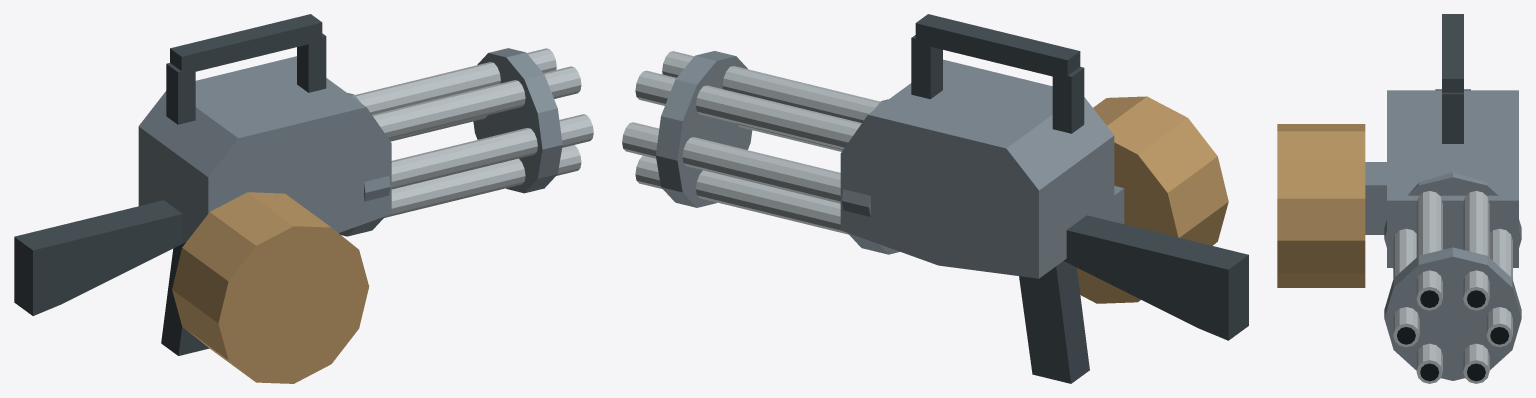
Rendered from w08-furnace-organ.glb.
3 renders of one model, left to right at view 1: azimuth 30°, elevation 25°; view 2: azimuth 150°, elevation 25°; view 3: azimuth 270°, elevation 25°, orthographic. The views are drawn at different scales.
Visible parts, largest first — view 1: w08-furnace-organ__receiver, w08-furnace-organ__feed_drum, w08-furnace-organ__stock, w08-furnace-organ__rotor_front_0, w08-furnace-organ__tube_0_3, w08-furnace-organ__tube_0_2, w08-furnace-organ__carry_handle_top, w08-furnace-organ__tube_0_4, w08-furnace-organ__tube_0_1, w08-furnace-organ__grip, w08-furnace-organ__carry_handle_mount_-0.2, w08-furnace-organ__carry_handle_mount_0.06 (+1 smaller); view 2: w08-furnace-organ__receiver, w08-furnace-organ__feed_drum, w08-furnace-organ__stock, w08-furnace-organ__rotor_front_0, w08-furnace-organ__grip, w08-furnace-organ__tube_0_0, w08-furnace-organ__tube_0_1, w08-furnace-organ__carry_handle_top, w08-furnace-organ__tube_0_5, w08-furnace-organ__tube_0_2, w08-furnace-organ__carry_handle_mount_-0.2, w08-furnace-organ__carry_handle_mount_0.06 (+1 smaller); view 3: w08-furnace-organ__receiver, w08-furnace-organ__feed_drum, w08-furnace-organ__rotor_front_0, w08-furnace-organ__tube_0_1, w08-furnace-organ__tube_0_2, w08-furnace-organ__carry_handle_top, w08-furnace-organ__tube_0_0, w08-furnace-organ__tube_0_3, w08-furnace-organ__feed_bridge, w08-furnace-organ__rotor_rear_0, w08-furnace-organ__carry_handle_mount_0.06, w08-furnace-organ__tube_0_4 (+7 smaller).
Part boxes in pixels (x1=…): w08-furnace-organ__receiver: x1=138, y1=56, x2=391, y2=242; w08-furnace-organ__feed_drum: x1=172, y1=192, x2=369, y2=383; w08-furnace-organ__stock: x1=14, y1=200, x2=185, y2=315; w08-furnace-organ__rotor_front_0: x1=473, y1=48, x2=562, y2=193; w08-furnace-organ__tube_0_3: x1=391, y1=114, x2=593, y2=189; w08-furnace-organ__tube_0_2: x1=372, y1=66, x2=581, y2=139; w08-furnace-organ__carry_handle_top: x1=170, y1=14, x2=322, y2=73; w08-furnace-organ__tube_0_4: x1=384, y1=145, x2=581, y2=217; w08-furnace-organ__tube_0_1: x1=355, y1=48, x2=556, y2=114; w08-furnace-organ__grip: x1=161, y1=242, x2=209, y2=355; w08-furnace-organ__carry_handle_mount_-0.2: x1=166, y1=63, x2=195, y2=124; w08-furnace-organ__carry_handle_mount_0.06: x1=297, y1=33, x2=326, y2=92; w08-furnace-organ__receiver: x1=840, y1=59, x2=1114, y2=278; w08-furnace-organ__feed_drum: x1=1077, y1=96, x2=1228, y2=303; w08-furnace-organ__stock: x1=1064, y1=215, x2=1248, y2=340; w08-furnace-organ__rotor_front_0: x1=655, y1=51, x2=752, y2=207; w08-furnace-organ__grip: x1=1019, y1=261, x2=1089, y2=383; w08-furnace-organ__tube_0_0: x1=622, y1=122, x2=840, y2=203; w08-furnace-organ__tube_0_1: x1=635, y1=70, x2=861, y2=149; w08-furnace-organ__carry_handle_top: x1=915, y1=14, x2=1080, y2=79; w08-furnace-organ__tube_0_5: x1=635, y1=155, x2=848, y2=234; w08-furnace-organ__tube_0_2: x1=662, y1=51, x2=879, y2=122; w08-furnace-organ__carry_handle_mount_-0.2: x1=1052, y1=67, x2=1084, y2=133; w08-furnace-organ__carry_handle_mount_0.06: x1=911, y1=35, x2=942, y2=99; w08-furnace-organ__receiver: x1=1387, y1=90, x2=1518, y2=267; w08-furnace-organ__feed_drum: x1=1277, y1=124, x2=1365, y2=287; w08-furnace-organ__rotor_front_0: x1=1384, y1=247, x2=1521, y2=380; w08-furnace-organ__tube_0_1: x1=1463, y1=191, x2=1489, y2=310; w08-furnace-organ__tube_0_2: x1=1416, y1=191, x2=1442, y2=310; w08-furnace-organ__carry_handle_top: x1=1442, y1=14, x2=1463, y2=92; w08-furnace-organ__tube_0_0: x1=1486, y1=228, x2=1512, y2=347; w08-furnace-organ__tube_0_3: x1=1393, y1=228, x2=1419, y2=347; w08-furnace-organ__feed_bridge: x1=1365, y1=162, x2=1386, y2=234; w08-furnace-organ__rotor_rear_0: x1=1384, y1=172, x2=1521, y2=268; w08-furnace-organ__carry_handle_mount_0.06: x1=1442, y1=92, x2=1463, y2=143; w08-furnace-organ__tube_0_4: x1=1416, y1=343, x2=1442, y2=383.
Bounding box in the file's own units: 1.07 × 0.5623 × 0.445.
